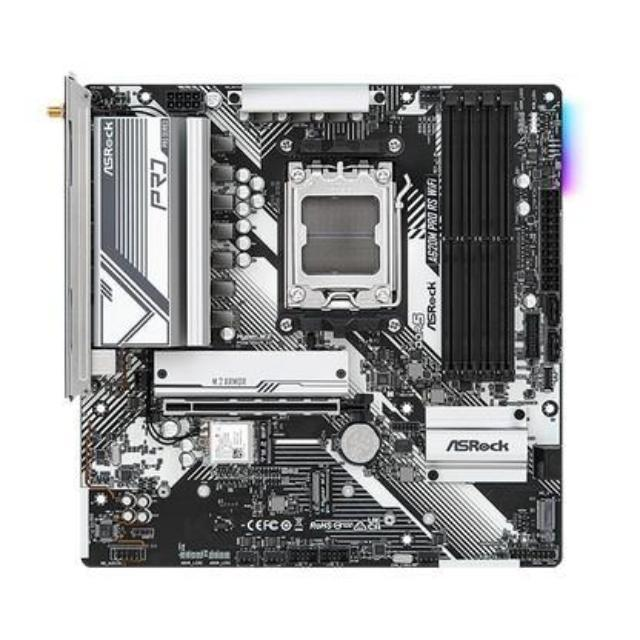Mainboard: (47, 70, 570, 572)
